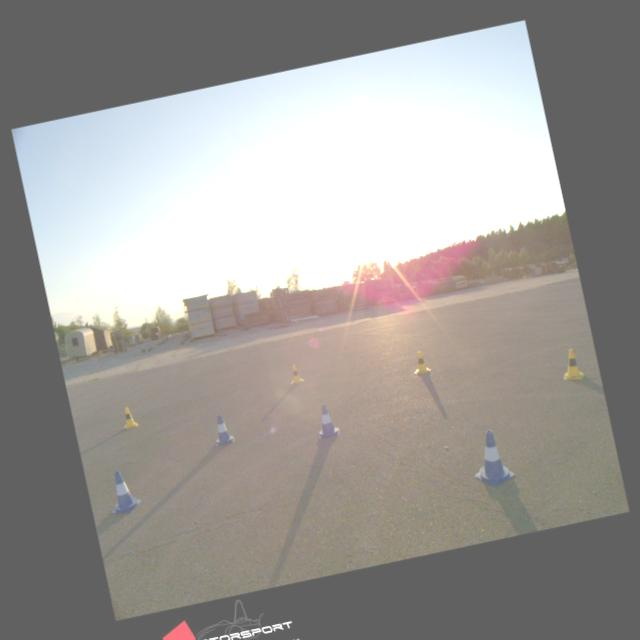blue_cone: (465, 426, 515, 488), (103, 468, 142, 514), (312, 402, 340, 438), (210, 412, 234, 446)
yellow_cone: (557, 346, 585, 381), (410, 348, 430, 374), (120, 405, 138, 428), (286, 362, 304, 383)
